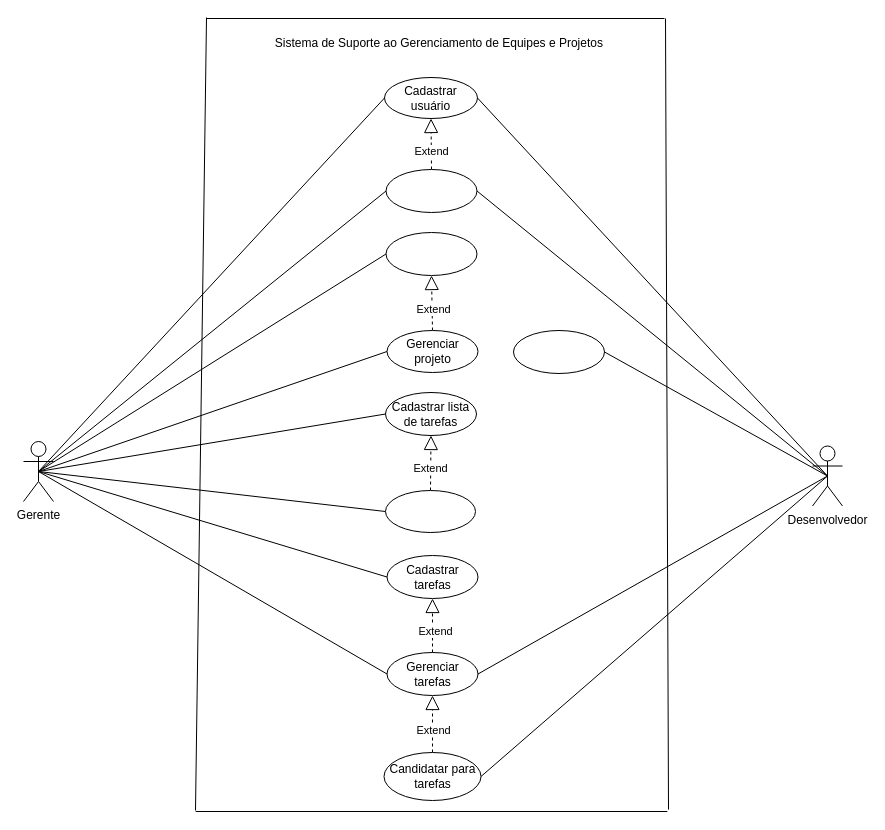
Some shapes in this 885 by 830 pixel diagram are drawn without their labels. Here are the shapes that lost their labels. From the top down, the centre of each, then its label:
At point 431,190: "Gerenciar usuário".
At point 431,254: "Criar projeto".
At point 558,352: "Registrar preferências".
At point 430,511: "Gerenciar lista de tarefas".
